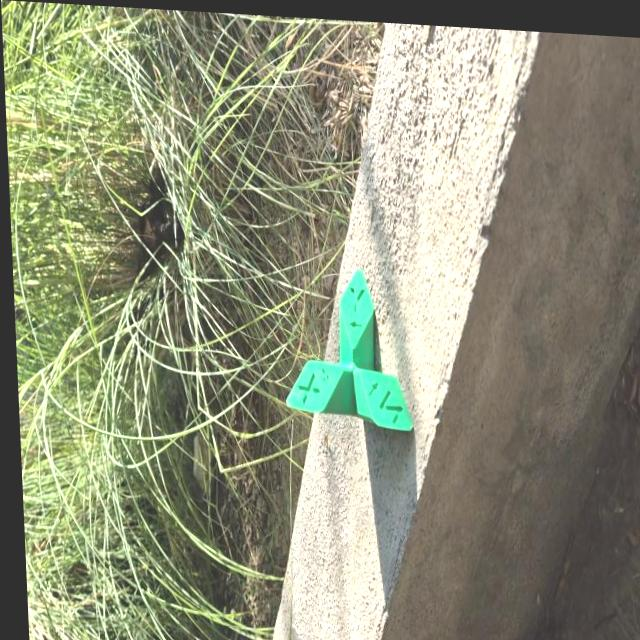eje: (278, 260, 414, 434)
